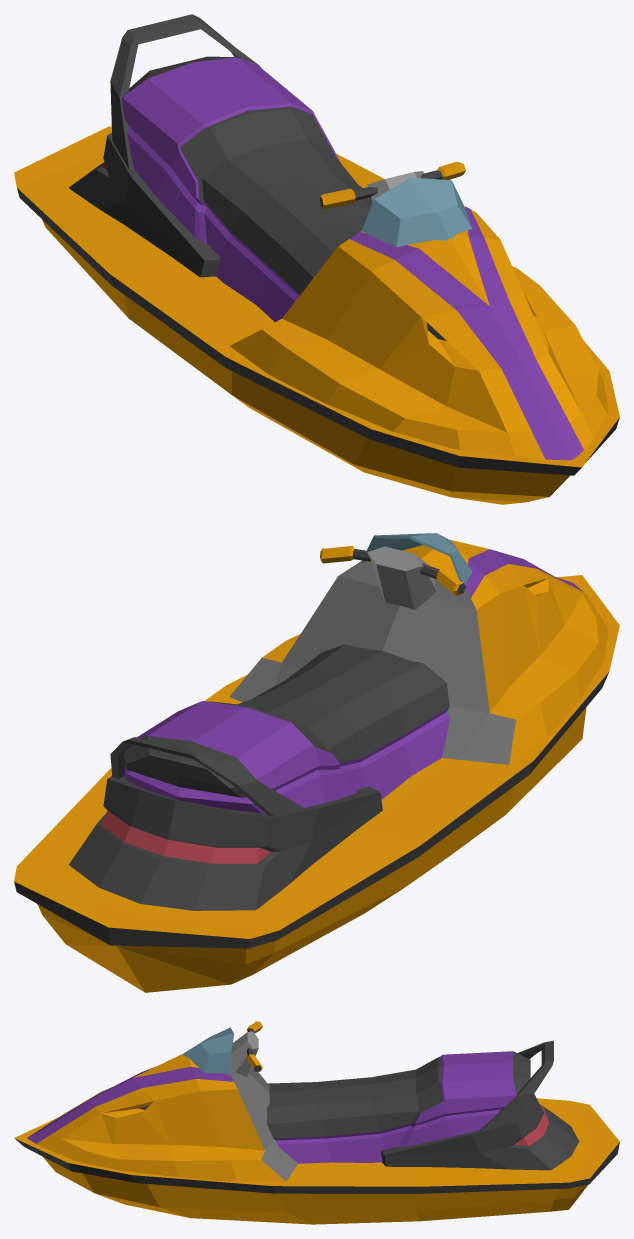
File: Jetski A.fbx
3 renders of one model, top to bottom at view 1: azimuth 30°, elevation 25°; view 2: azimuth 150°, elevation 25°; view 3: azimuth 270°, elevation 25°, orthographic. The views are drawn at different scales.
Visible parts, largest first — view 1: Jetski A; view 2: Jetski A; view 3: Jetski A.
Part boxes in pixels (x1,y1,x2,y2): Jetski A: (14,14,619,504); Jetski A: (14,533,619,992); Jetski A: (14,1021,619,1224).
Size of the model in its own units: 114 by 99.57 by 300.
